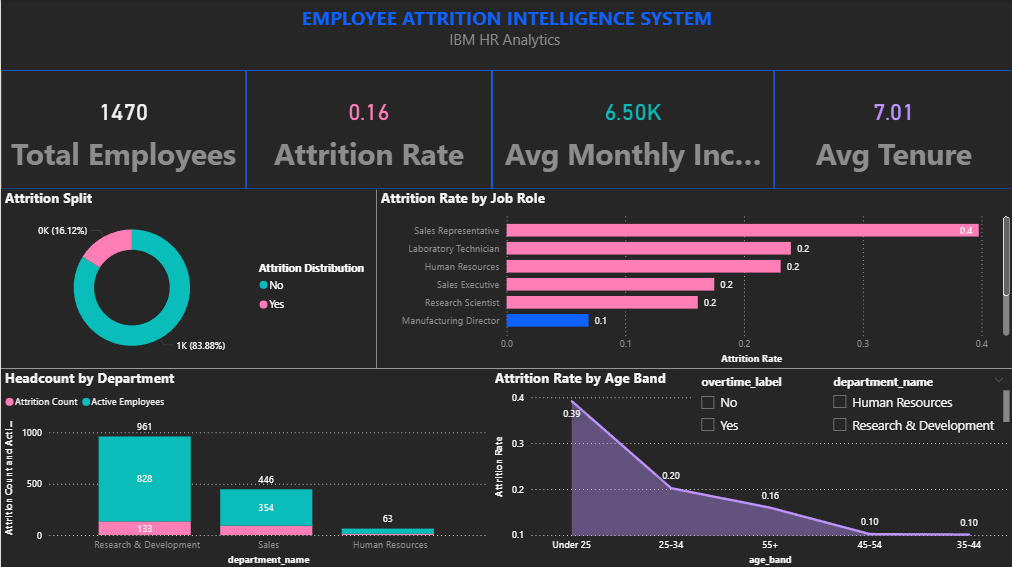

Layout of this report page (visuals, bound fields, positions):
{"tool":"powerbi","page":{"name":"Overview","canvas":[1280,720],"ordinal":0},"visuals":[{"type":"textbox","box":[0,0,1280,90.2],"z":0},{"type":"card","fields":{"Values":["Measuress.Total Employees"]},"box":[0,88.8,309.6,150.7],"z":1000},{"type":"card","fields":{"Values":["Measuress.Attrition Rate"]},"box":[309.6,88.8,310.9,150.7],"z":2000},{"type":"card","fields":{"Values":["Measuress.Avg Monthly Income"]},"box":[620.5,88.8,356.7,150.7],"z":3000},{"type":"card","fields":{"Values":["Measuress.Avg Tenure"]},"box":[977.2,88.8,302.8,150.7],"z":4000},{"type":"donutChart","title":"Attrition Split","fields":{"Category":["fact_employee_attrition.attrition_label"],"Y":["Measuress.Total Employees"]},"box":[0,239.6,475.1,227.5],"z":5000},{"type":"clusteredBarChart","title":"Attrition Rate by Job Role","fields":{"Category":["dim_job_role.job_role_name"],"Y":["Measuress.Attrition Rate"]},"box":[475.1,239.6,804.9,227.5],"z":6000},{"type":"columnChart","title":"Headcount by Department","fields":{"Category":["dim_department.department_name"],"Y":["Measuress.Attrition Count","Measuress.Active Employees"]},"box":[0,467,620.5,253],"z":7000},{"type":"areaChart","title":"Attrition Rate by Age Band","fields":{"Category":["fact_employee_attrition.age_band"],"Y":["Measuress.Attrition Rate"]},"box":[620,467,660,253],"z":8000},{"type":"slicer","fields":{"Values":["dim_department.department_name"]},"box":[1039.1,467,240.9,91.5],"z":9000},{"type":"slicer","fields":{"Values":["fact_employee_attrition.overtime_label"]},"box":[872.2,467,166.9,91.5],"z":10000}]}

Visuals, with their boxes in screenshot pixels (x1, y1, x2, y2), scaled from the page's 1280x720 canvas onto the 1012x567 screenshot:
textbox: {"x1": 0, "y1": 0, "x2": 1011, "y2": 71}
card - Measuress.Total Employees: {"x1": 0, "y1": 70, "x2": 245, "y2": 189}
card - Measuress.Attrition Rate: {"x1": 245, "y1": 70, "x2": 491, "y2": 189}
card - Measuress.Avg Monthly Income: {"x1": 491, "y1": 70, "x2": 773, "y2": 189}
card - Measuress.Avg Tenure: {"x1": 773, "y1": 70, "x2": 1011, "y2": 189}
"Attrition Split" donutChart: {"x1": 0, "y1": 189, "x2": 376, "y2": 368}
"Attrition Rate by Job Role" clusteredBarChart: {"x1": 376, "y1": 189, "x2": 1011, "y2": 368}
"Headcount by Department" columnChart: {"x1": 0, "y1": 368, "x2": 491, "y2": 566}
"Attrition Rate by Age Band" areaChart: {"x1": 490, "y1": 368, "x2": 1011, "y2": 566}
slicer - dim_department.department_name: {"x1": 822, "y1": 368, "x2": 1011, "y2": 440}
slicer - fact_employee_attrition.overtime_label: {"x1": 690, "y1": 368, "x2": 822, "y2": 440}
